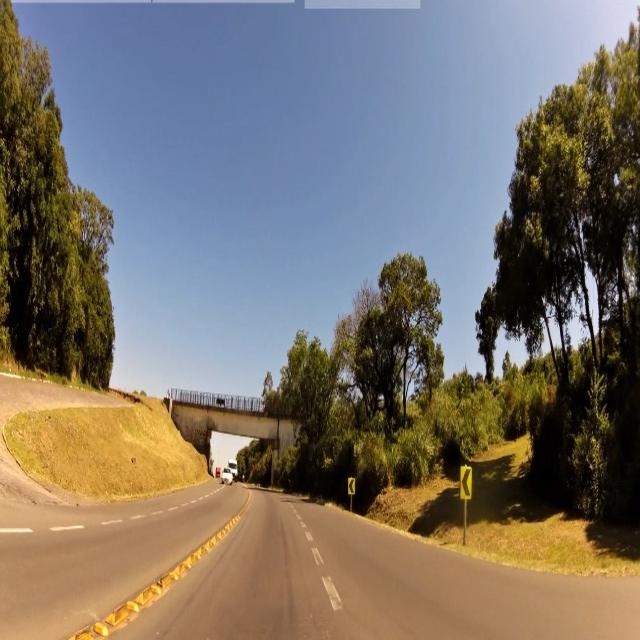Del: (458, 466, 472, 500)
